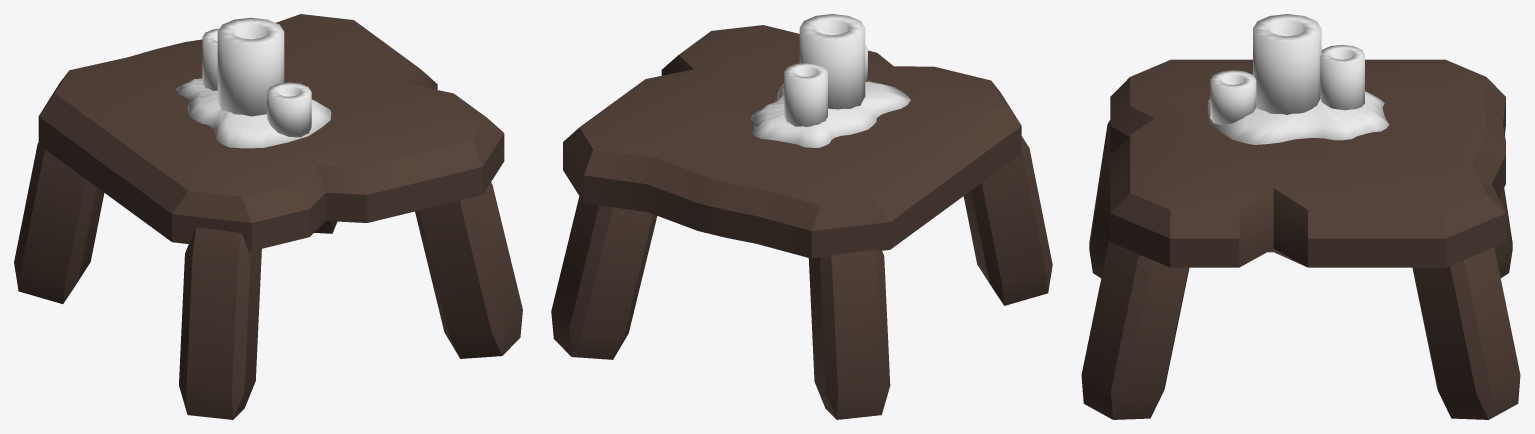
File: Mesita.fbx
3 views of the same model, side by side, from view 1: azimuth 30°, elevation 25°; view 2: azimuth 150°, elevation 25°; view 3: azimuth 270°, elevation 25° (orthographic). The views are drawn at different scales.
Parts seen in each view (by area): view 1: mesita, Velas; view 2: mesita, Velas; view 3: mesita, Velas.
Part boxes in pixels (<box>): mesita: <box>14,14,522,419</box>; Velas: <box>176,17,331,148</box>; mesita: <box>551,25,1052,419</box>; Velas: <box>750,14,910,147</box>; mesita: <box>1081,59,1520,419</box>; Velas: <box>1207,14,1389,144</box>.
Size of the model in its own units: 131 by 110 by 141.
